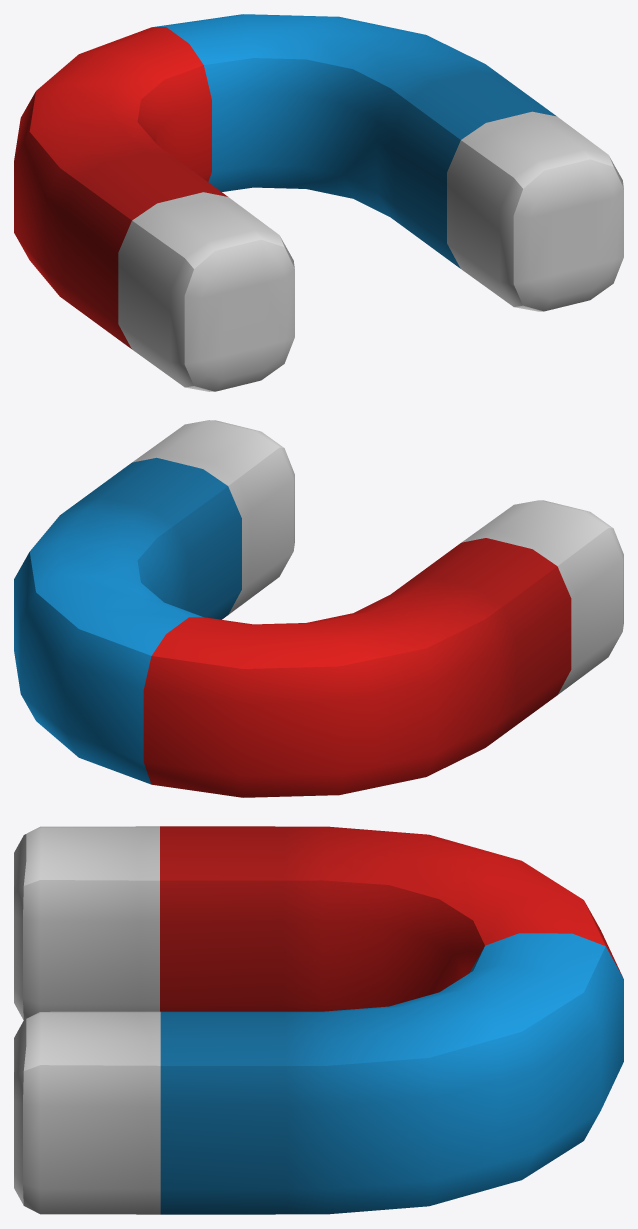
Rendered from MagnetRedBlue.fbx.
3 views of the same model, one above another, from view 1: azimuth 30°, elevation 25°; view 2: azimuth 150°, elevation 25°; view 3: azimuth 270°, elevation 25° (orthographic). The views are drawn at different scales.
Parts seen in each view (by area): view 1: MagnetRedBlue; view 2: MagnetRedBlue; view 3: MagnetRedBlue.
Part boxes in pixels (x1=…): MagnetRedBlue: x1=14, y1=14, x2=623, y2=391; MagnetRedBlue: x1=14, y1=420, x2=623, y2=797; MagnetRedBlue: x1=14, y1=826, x2=623, y2=1214.
Bounding box in the file's own units: 45.5 × 14.5 × 46.02.
